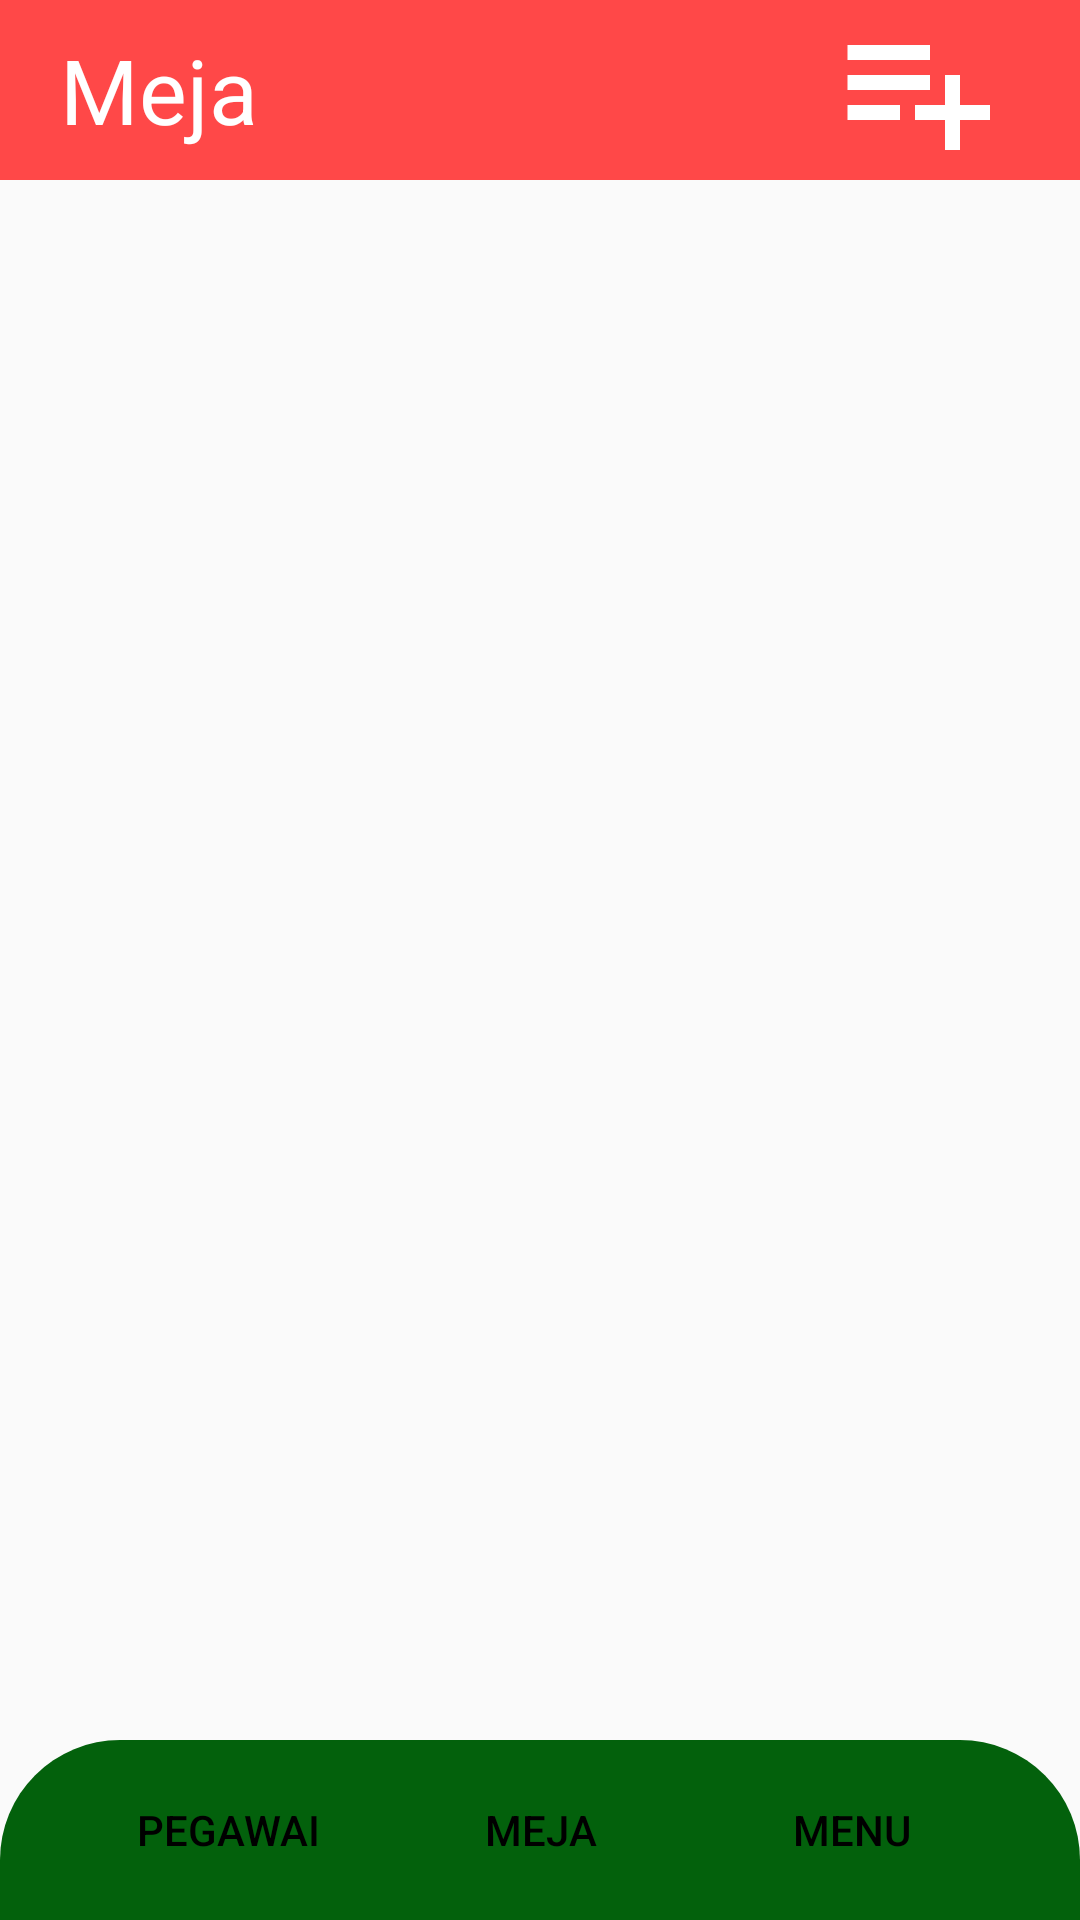

Point at icon controls on the screen. Image size 1080×1920, points as (x,y).
playlist add: (918,97)
